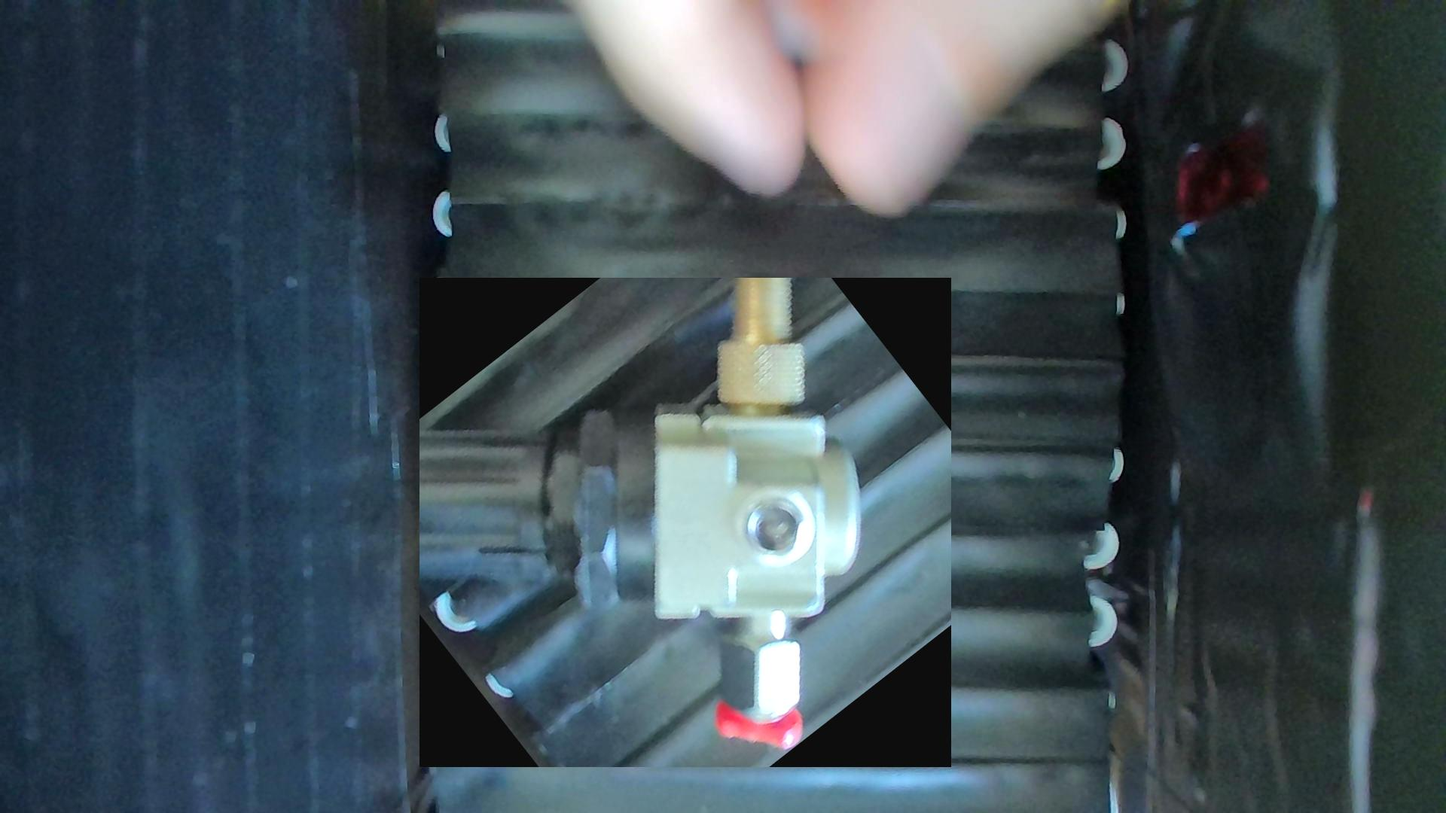regulator: (419, 278, 951, 767)
